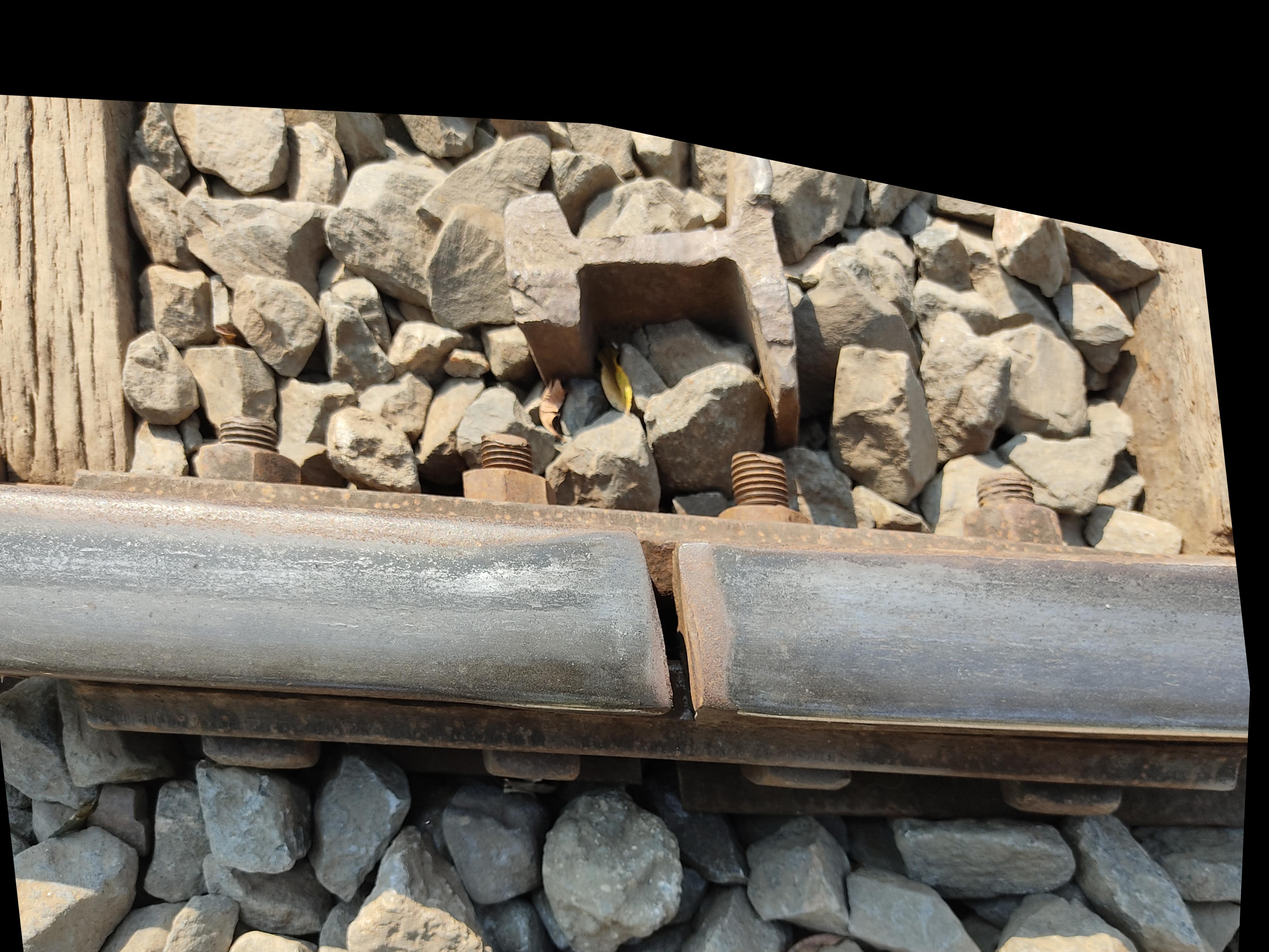person: (446, 522, 761, 858)
